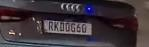Placa_mercosul_carro: (43, 20, 93, 35)
